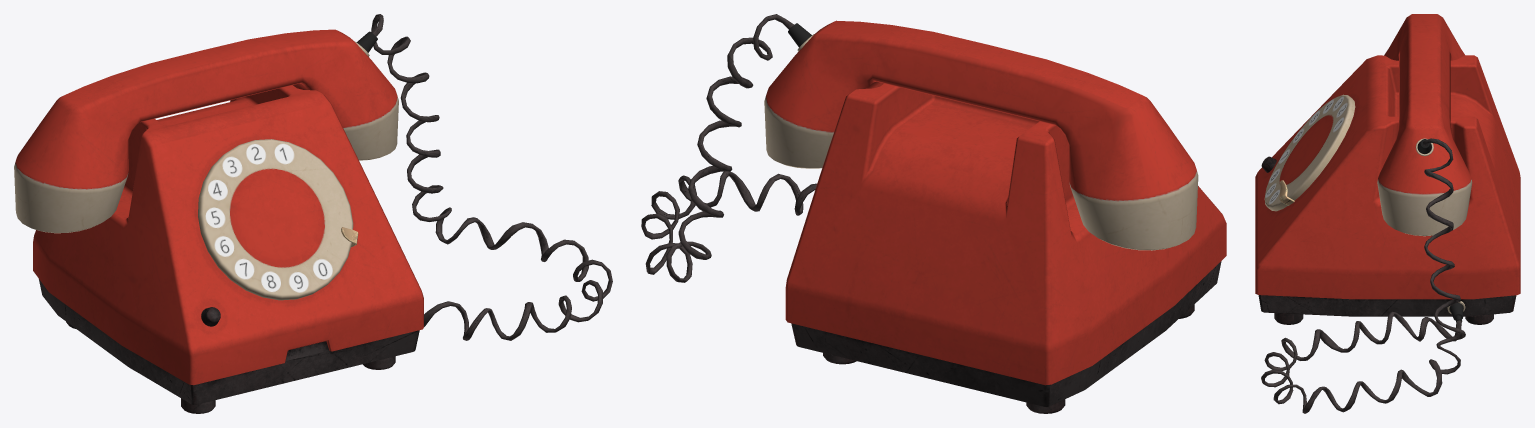
Rendered from old-phone.fbx.
3 views of the same model, side by side, from view 1: azimuth 30°, elevation 25°; view 2: azimuth 150°, elevation 25°; view 3: azimuth 270°, elevation 25° (orthographic). The views are drawn at different scales.
Visible parts, largest first — view 1: SM_OldPhone_Full_Material #2850_0; view 2: SM_OldPhone_Full_Material #2850_0; view 3: SM_OldPhone_Full_Material #2850_0.
Boxes of the visible parts, left/top/right/bottom form: SM_OldPhone_Full_Material #2850_0: left=14, top=14, right=612, bottom=413; SM_OldPhone_Full_Material #2850_0: left=641, top=14, right=1226, bottom=413; SM_OldPhone_Full_Material #2850_0: left=1255, top=14, right=1520, bottom=413.
Size of the model in its own units: 5144 by 2577 by 2728.
1 material, 1 textured.
